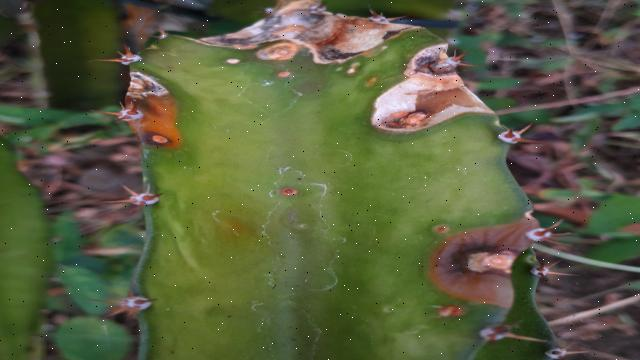stemcanker: (269, 175, 308, 210), (210, 207, 247, 242), (425, 300, 467, 322), (418, 219, 451, 239), (270, 63, 300, 83)
